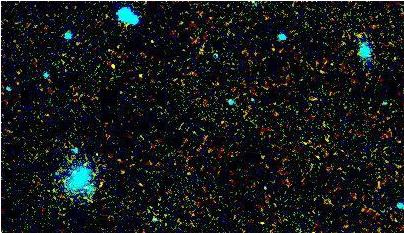star: (98, 52, 128, 82)
